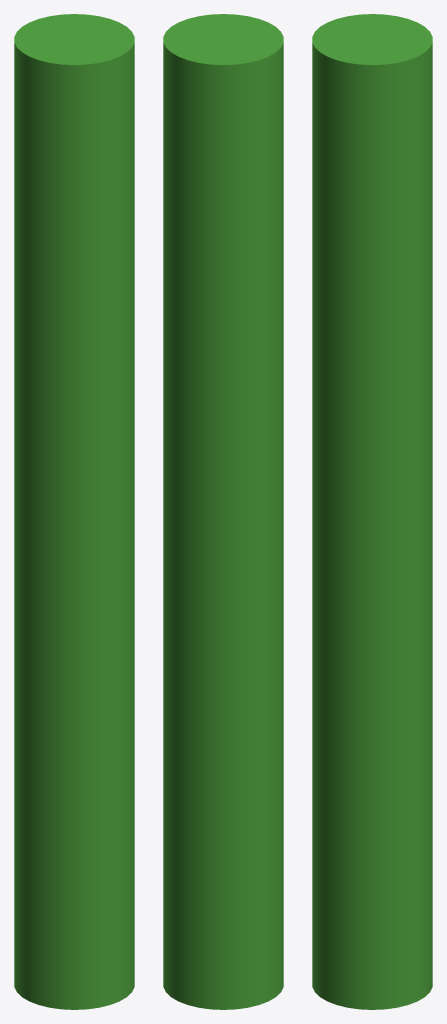
Rendered from stalk.fbx.
3 renders of one model, left to right at view 1: azimuth 90°, elevation 25°; view 2: azimuth 150°, elevation 25°; view 3: azimuth 330°, elevation 25°, orthographic.
Parts seen in each view (by area): view 1: pCylinder1; view 2: pCylinder1; view 3: pCylinder1.
Boxes of the visible parts, x1=… form: pCylinder1: x1=14, y1=14, x2=134, y2=1009; pCylinder1: x1=163, y1=14, x2=283, y2=1009; pCylinder1: x1=312, y1=14, x2=432, y2=1009.
Bounding box in the file's own units: 2.61 × 22.46 × 2.59.
